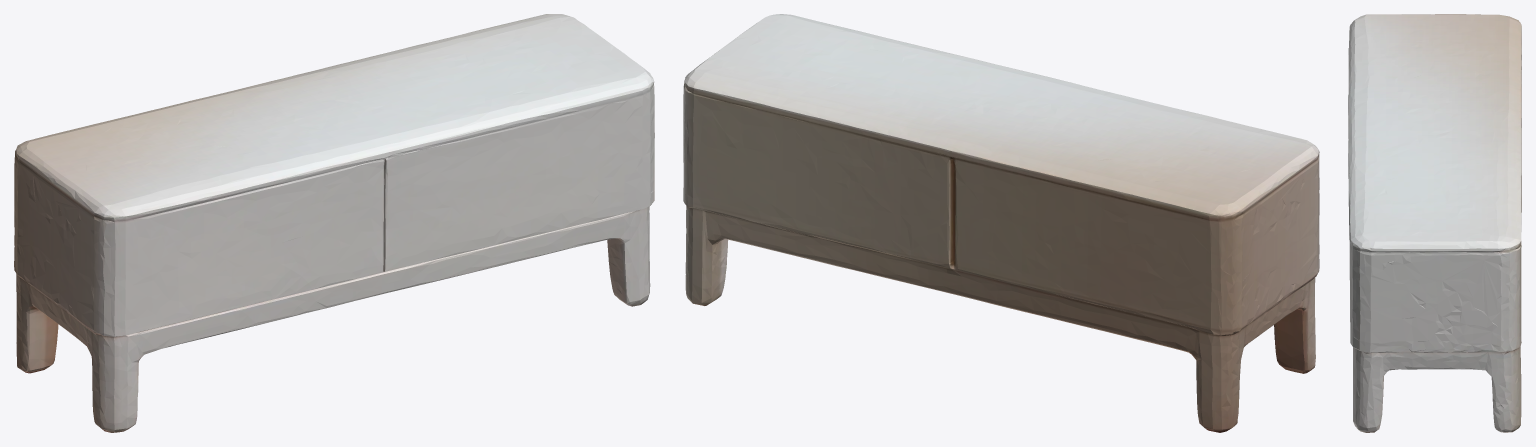
The picture shows the model from 3 angles, left to right: view 1: azimuth 30°, elevation 25°; view 2: azimuth 150°, elevation 25°; view 3: azimuth 270°, elevation 25°; orthographic projection. The views are drawn at different scales.
Visible parts, largest first — view 1: geometry_0; view 2: geometry_0; view 3: geometry_0.
Boxes of the visible parts, left/top/right/bottom form: geometry_0: left=14, top=14, right=654, bottom=432; geometry_0: left=683, top=14, right=1319, bottom=432; geometry_0: left=1348, top=14, right=1521, bottom=432.
Bounding box in the file's own units: 1 × 0.3901 × 0.3139.
Materials: 1 (1 with a texture image).
